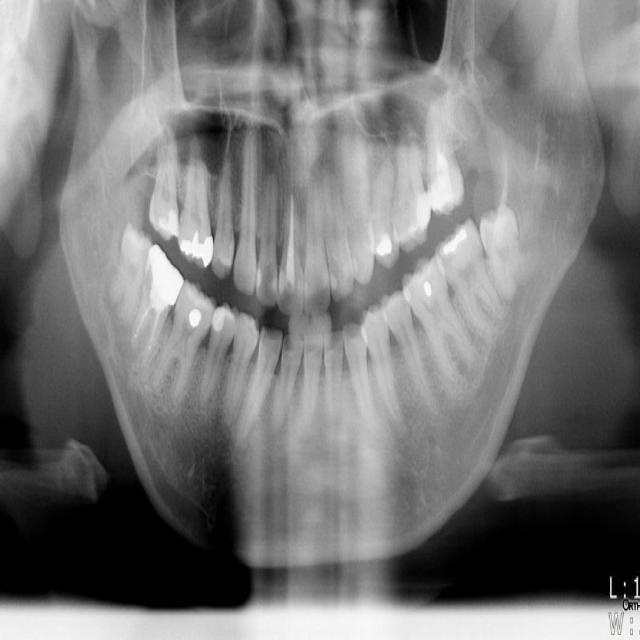Crown: (147, 243, 184, 306)
Filling: (427, 170, 464, 218), (178, 230, 213, 267), (404, 274, 433, 301), (441, 228, 468, 256), (412, 194, 431, 231), (155, 209, 179, 236), (208, 308, 232, 330), (377, 232, 394, 258), (183, 306, 203, 324)
Periapical lesion: (114, 321, 148, 368)
Root Canal Treatment: (286, 194, 295, 281), (132, 305, 148, 348), (141, 319, 156, 356)
impacted tooth: (479, 201, 527, 302), (104, 227, 152, 325)
